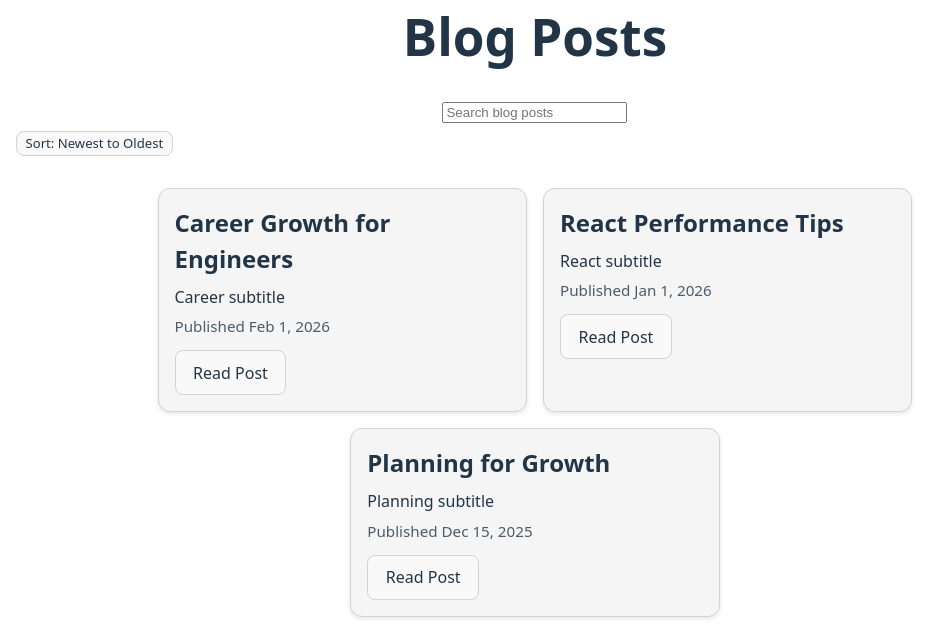
Test: Blog › happy path: filters blog cards by body keyword
This screenshot has width=929, height=636.
Type "body two" into the search field labelled "Search blog posts" at {"x": 535, "y": 112}, box [442, 102, 628, 123]
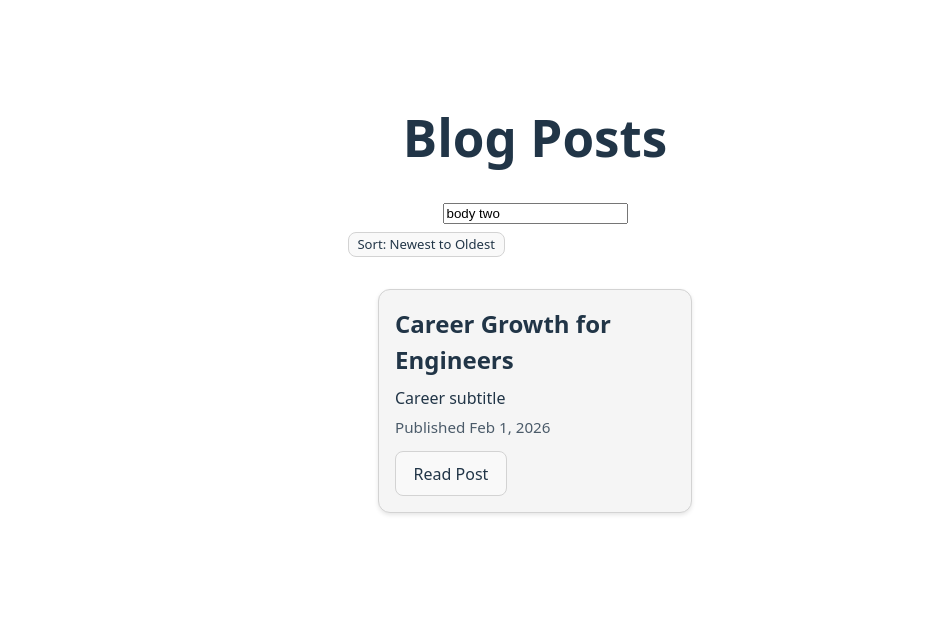
Expected: the heading "Career Growth for Engineers" is shown, [395, 307, 611, 376]
Expected: the heading "React Performance Tips" is gone
